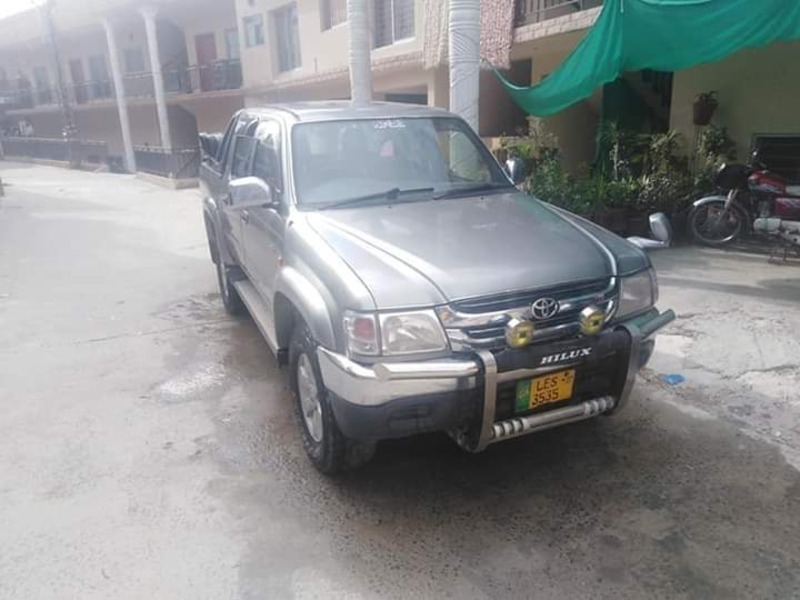License Plate: (511, 366, 579, 415)
